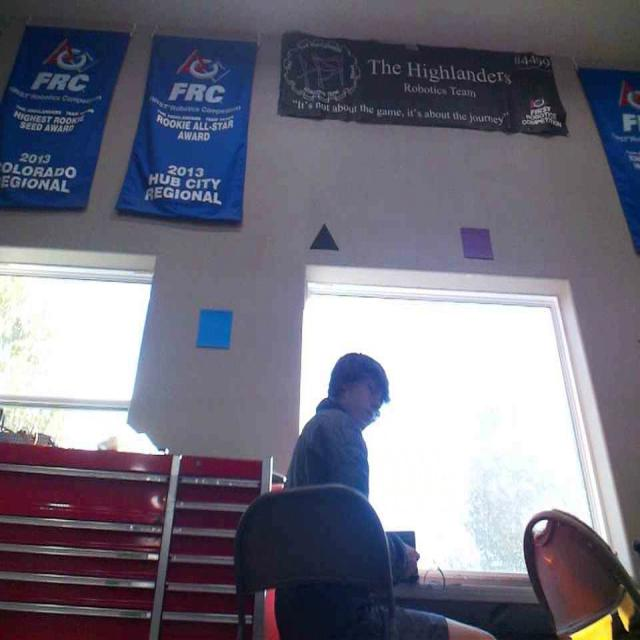square_blue: (195, 306, 232, 348)
square_purple: (458, 226, 494, 258)
triangle_black: (308, 222, 339, 251)
